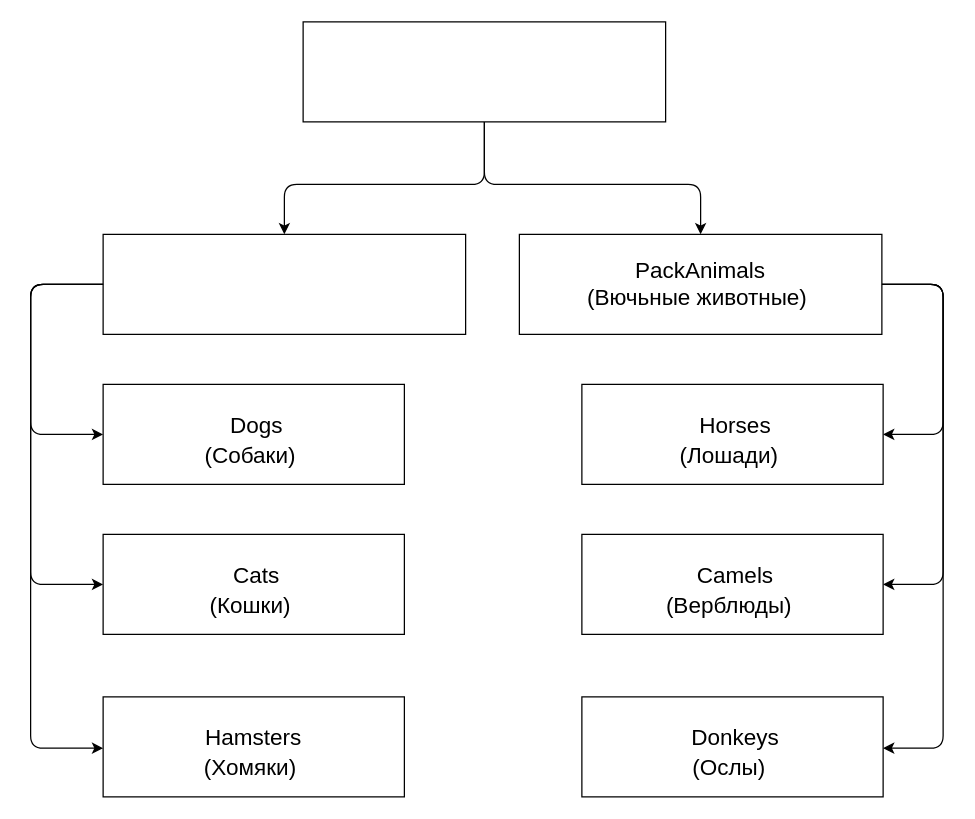
This 975x819 diagram has some shape labels left out. Each missing label, with the centre of its shape:
"Pets (Домашнии животные)" goes at (x=284, y=283).
"Родительский класс Animal (Животные)" goes at (x=484, y=71).
